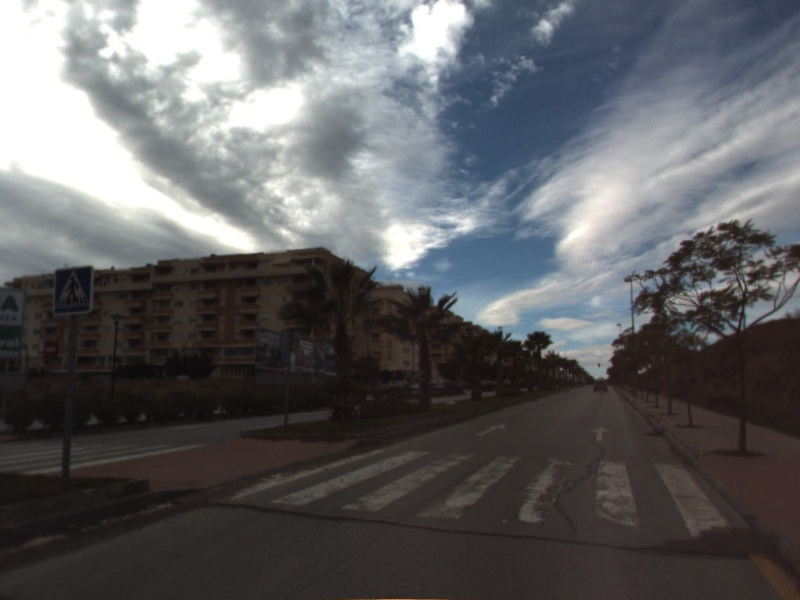STRAIGHT: (475, 421, 507, 437), (588, 424, 614, 443)
